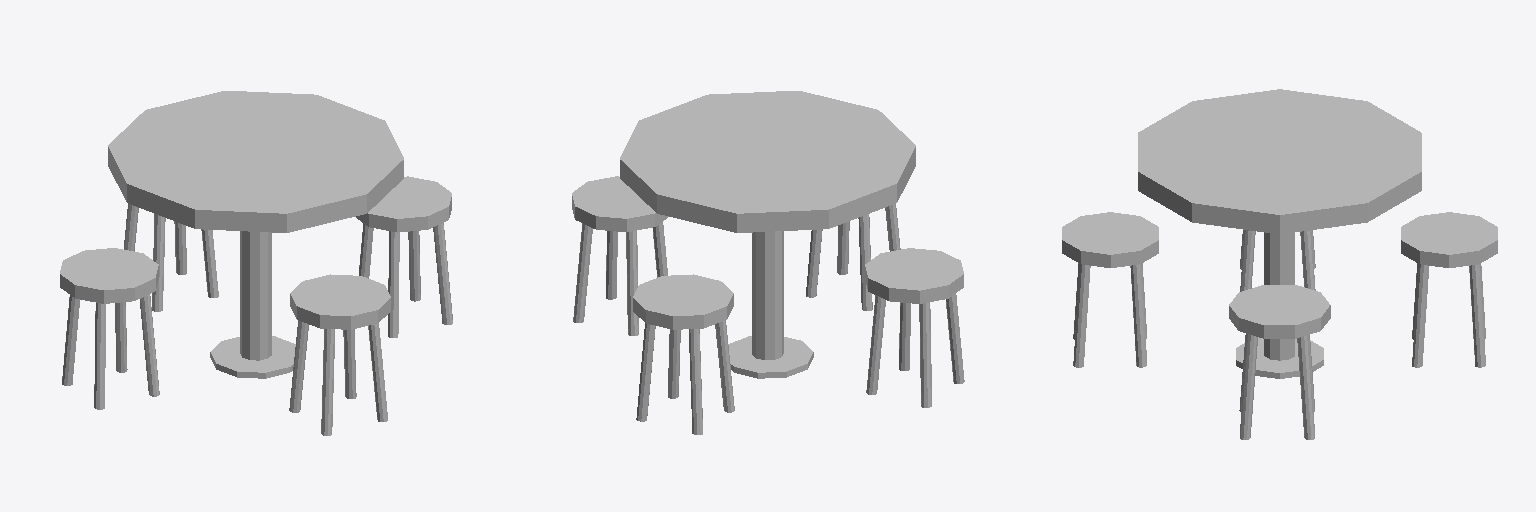
Rendered from Dask&chairround.obj.
3 views of the same model, side by side, from view 1: azimuth 30°, elevation 25°; view 2: azimuth 150°, elevation 25°; view 3: azimuth 270°, elevation 25° (orthographic).
Visible parts, largest first — view 1: pCylinder245, polySurface2088, polySurface2085, polySurface2080; view 2: pCylinder245, polySurface2088, polySurface2080, polySurface2085; view 3: pCylinder245, polySurface2088, polySurface2080, polySurface2085.
Boxes of the visible parts, x1=… form: pCylinder245: x1=108, y1=91, x2=403, y2=378; polySurface2088: x1=60, y1=176, x2=452, y2=409; polySurface2085: x1=289, y1=274, x2=390, y2=435; polySurface2080: x1=124, y1=204, x2=218, y2=311; pCylinder245: x1=620, y1=91, x2=915, y2=378; polySurface2088: x1=572, y1=176, x2=964, y2=407; polySurface2080: x1=633, y1=274, x2=734, y2=434; polySurface2085: x1=806, y1=204, x2=900, y2=310; pCylinder245: x1=1138, y1=89, x2=1421, y2=378; polySurface2088: x1=1229, y1=230, x2=1330, y2=439; polySurface2080: x1=1401, y1=212, x2=1497, y2=367; polySurface2085: x1=1062, y1=212, x2=1158, y2=367.
Bounding box in the file's own units: 292 × 154 × 292.